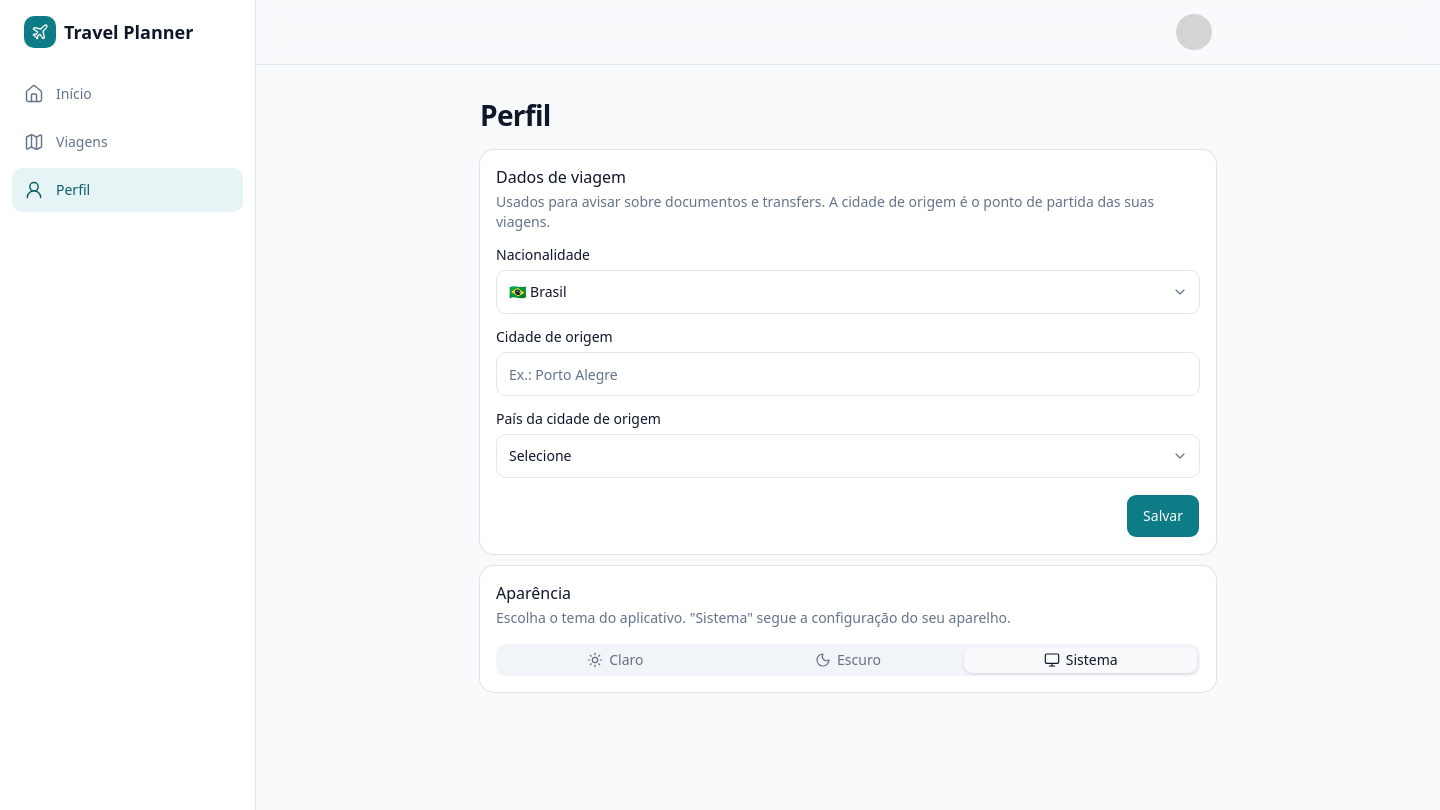
Test case: ProfileForm › exige o país quando a cidade é informada
The image size is (1440, 810).
Type "Curitiba" into the field labelled "Cidade de origem". click: (848, 374)
box: x1=496 y1=352 x2=1200 y2=396
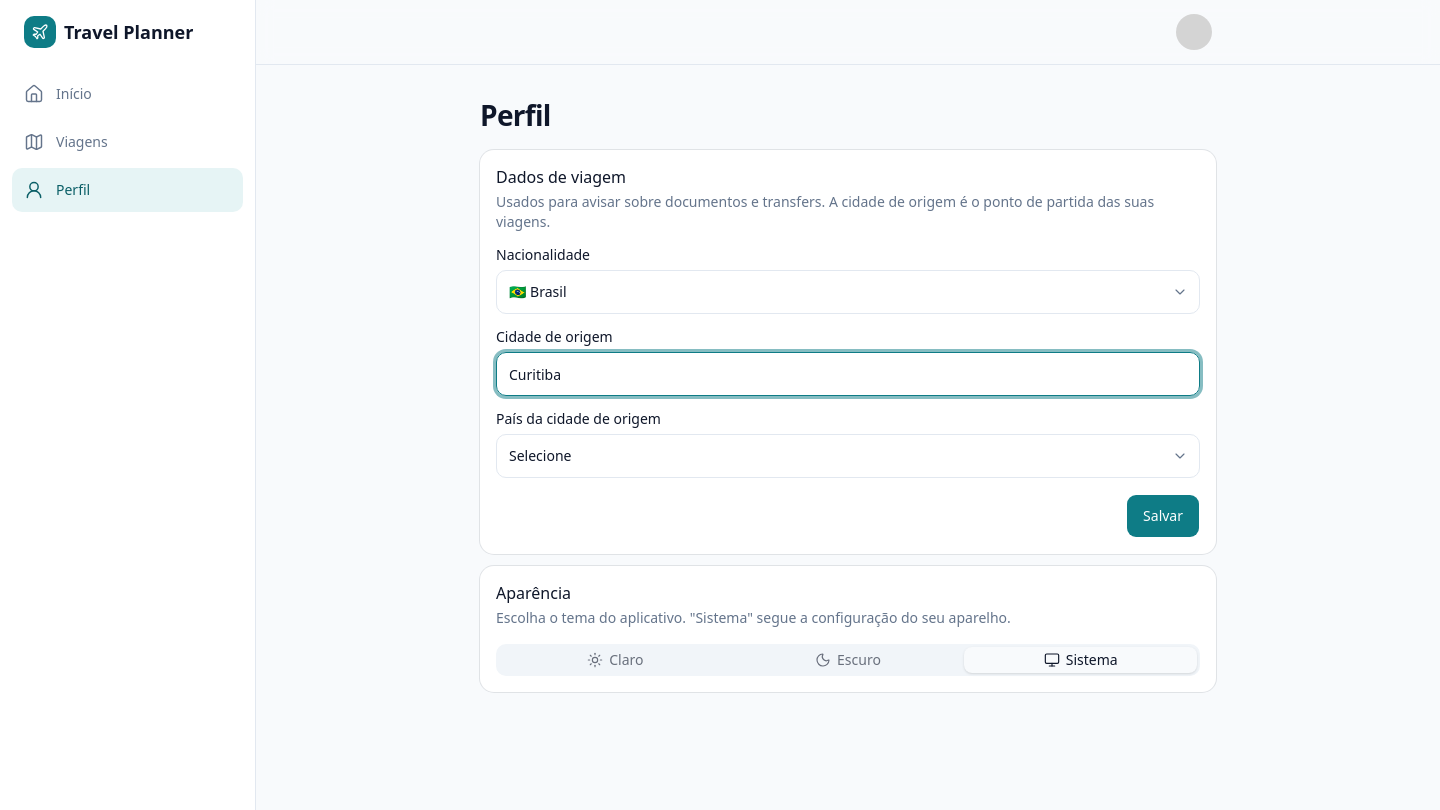
Click the button "Salvar". click: (1163, 516)
box: x1=1126 y1=494 x2=1200 y2=538
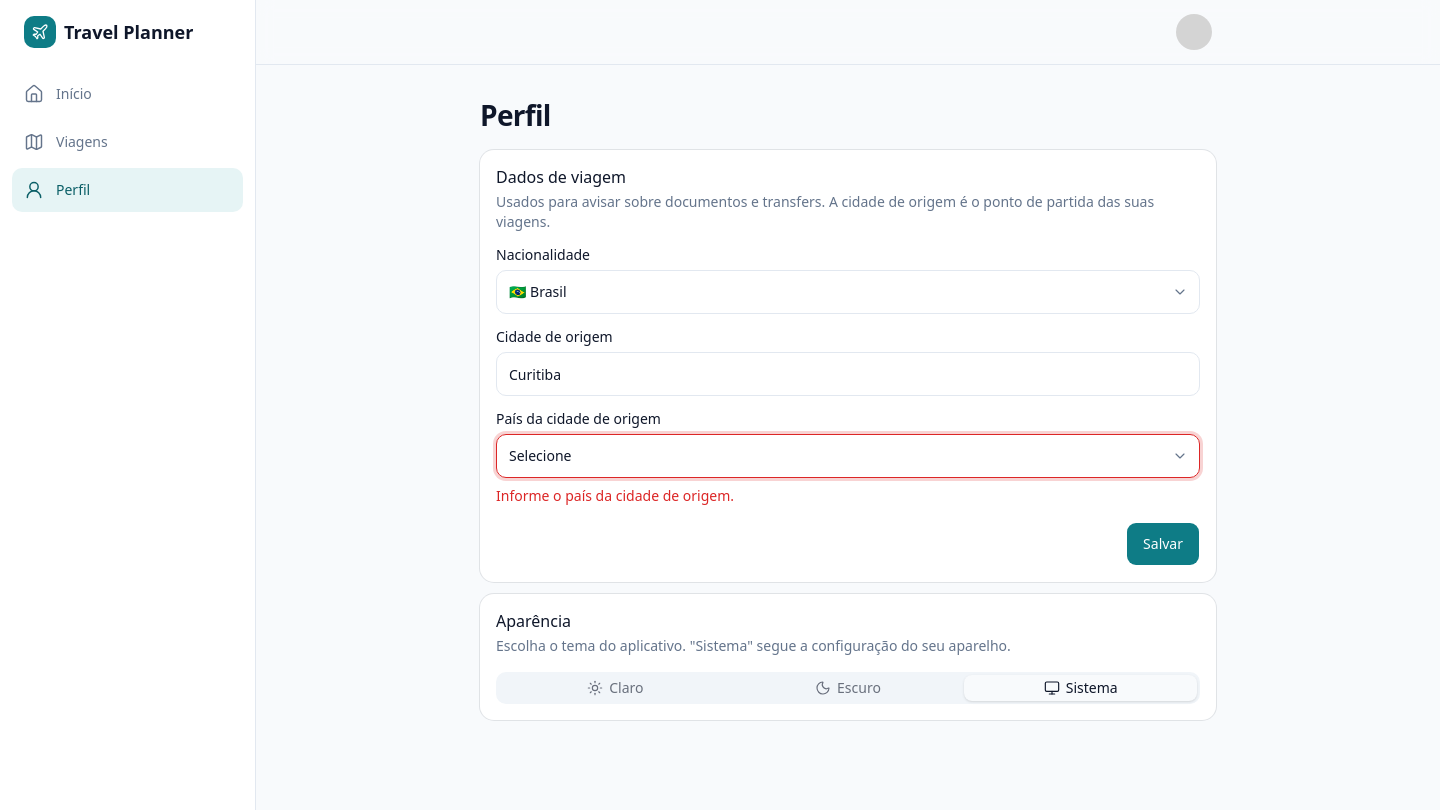
Expected: the text "Informe o país da cidade de origem." is shown, x1=496 y1=486 x2=734 y2=505
